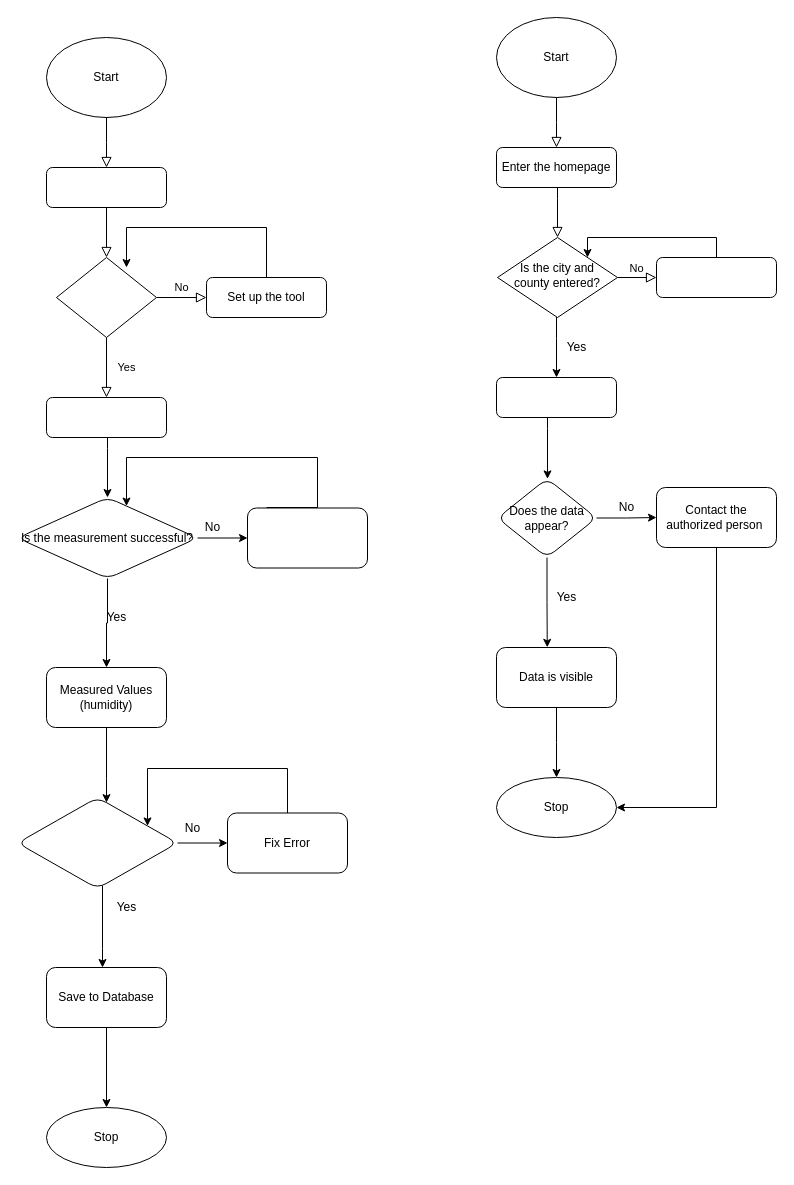
This 794x1185 diagram has some shape labels left out. Each missing label, with the centre of its shape:
"Did the values go to the cloud?" belongs at (x=97, y=842).
"Enter values" belongs at (x=716, y=277).
"Is the tool installed?" belongs at (x=106, y=297).
"Measure Again" belongs at (x=307, y=537).
"Measuring starts" belongs at (x=106, y=417).
"Request is sent to the backend" belongs at (x=556, y=397).
"Tool is ready" belongs at (x=106, y=187).
